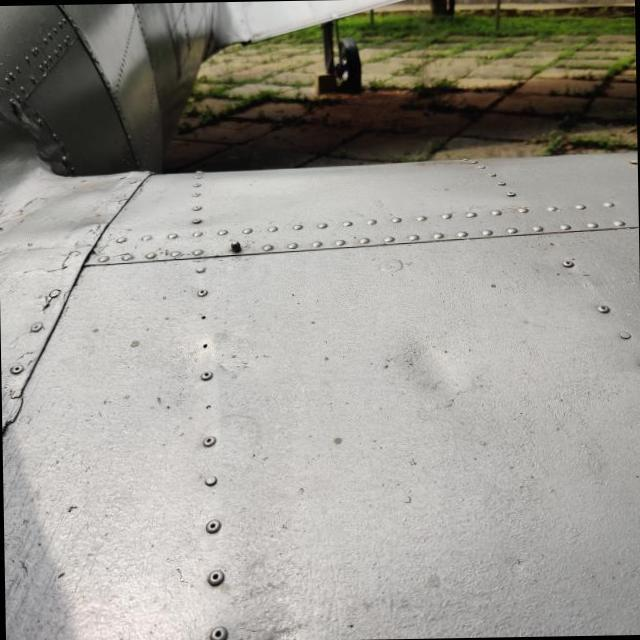Dent: (362, 297, 497, 423)
